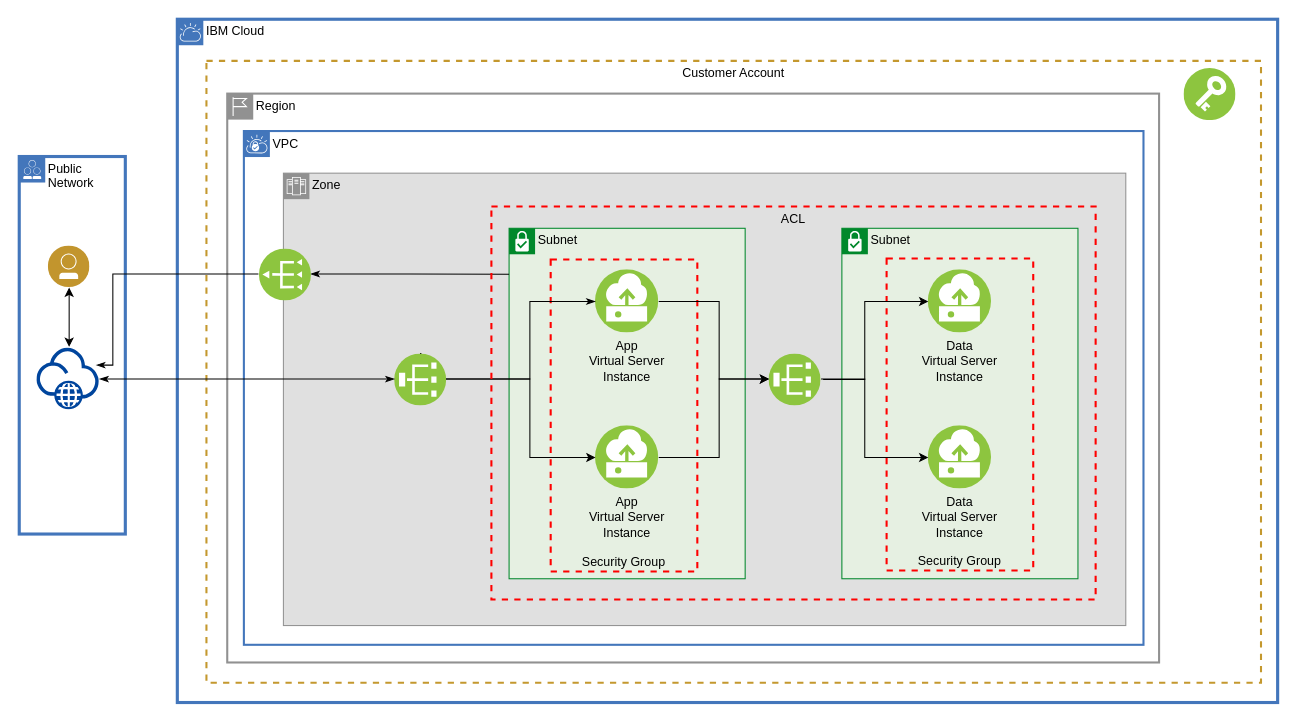
Some shapes in this 1297 by 722 pixel diagram are drawn without their labels. Each missing label, with the centre of its shape:
"Internet" goes at pixel 67 378.
"Private Load Balancer" goes at pixel 795 379.
"Public Gateway" goes at pixel 284 274.
"Public Load Balancer" goes at pixel 420 379.
"SSH Keys" goes at pixel 1210 94.
"User" goes at pixel 68 266.
